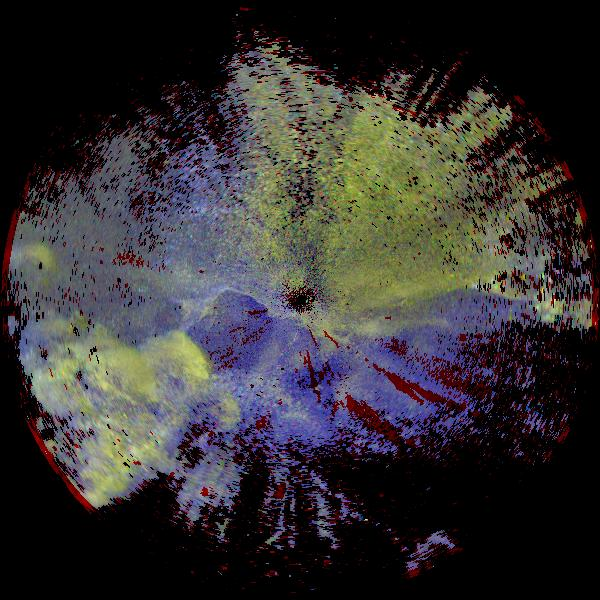roost: (113, 314, 227, 428), (68, 325, 167, 424), (20, 339, 110, 429), (4, 299, 94, 389)
